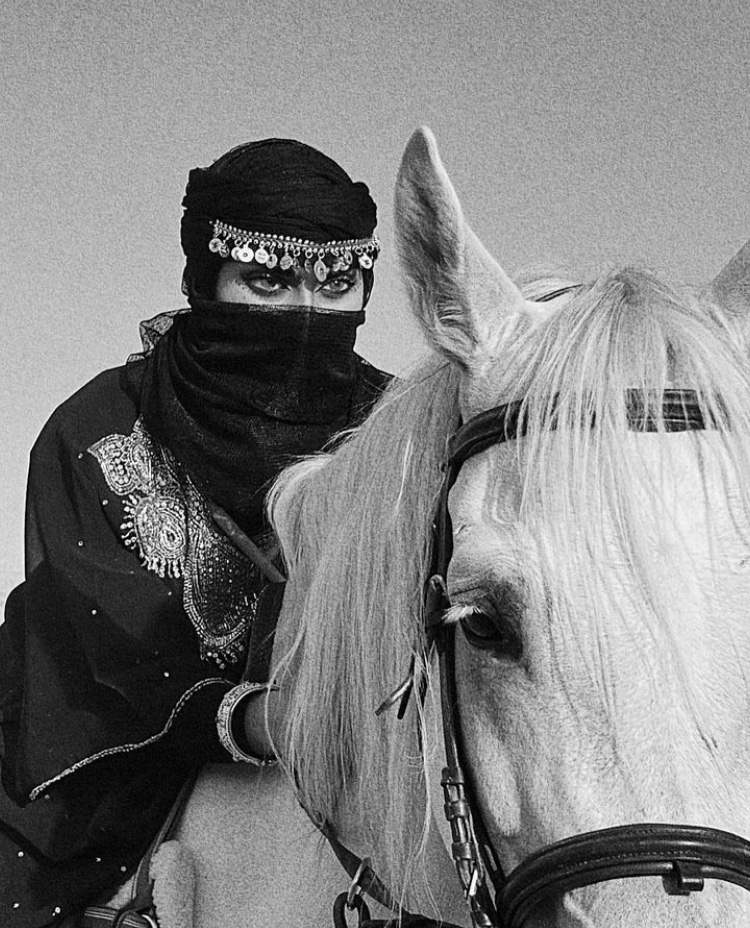Saudi_Founding_Day: (2, 132, 480, 928)
